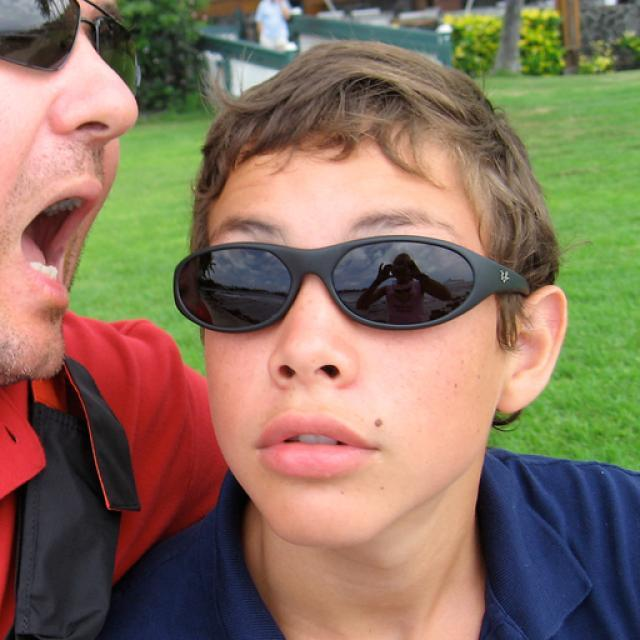neutral: (202, 138, 500, 548)
